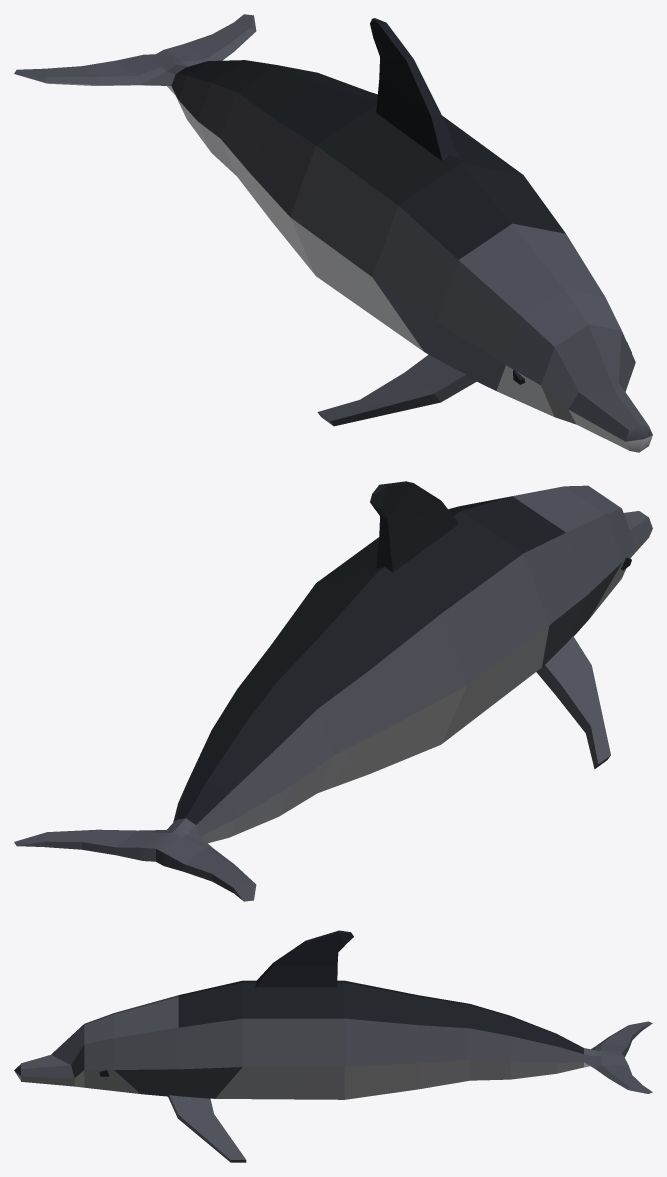
File: animals-dolphin-072.glb
3 views of the same model, one above another, from view 1: azimuth 30°, elevation 25°; view 2: azimuth 150°, elevation 25°; view 3: azimuth 270°, elevation 25° (orthographic). The views are drawn at different scales.
Visible parts, largest first — view 1: Geo_Dolphin; view 2: Geo_Dolphin; view 3: Geo_Dolphin.
Boxes of the visible parts, box(x1,y1,x2,y2) form: Geo_Dolphin: box(14, 14, 652, 452); Geo_Dolphin: box(14, 481, 652, 901); Geo_Dolphin: box(14, 930, 652, 1162).
Bounding box in the file's own units: 80.33 × 83.4 × 255.
1 material, 1 textured.
